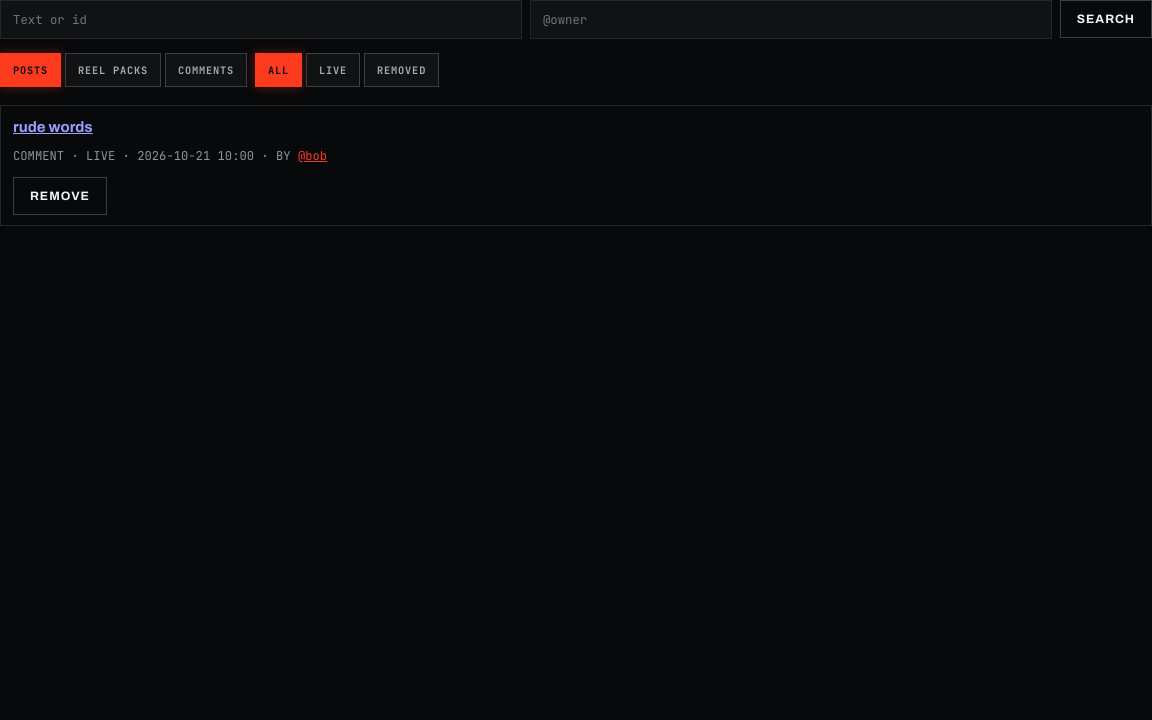
Scenario: ContentPanel › removes a comment and swaps the row in place
This screenshot has width=1152, height=720.
Check: the text "REMOVE" is shown, box [30,190,90,202]
Click the button "REMOVE": (60, 196) [13,177,107,215]
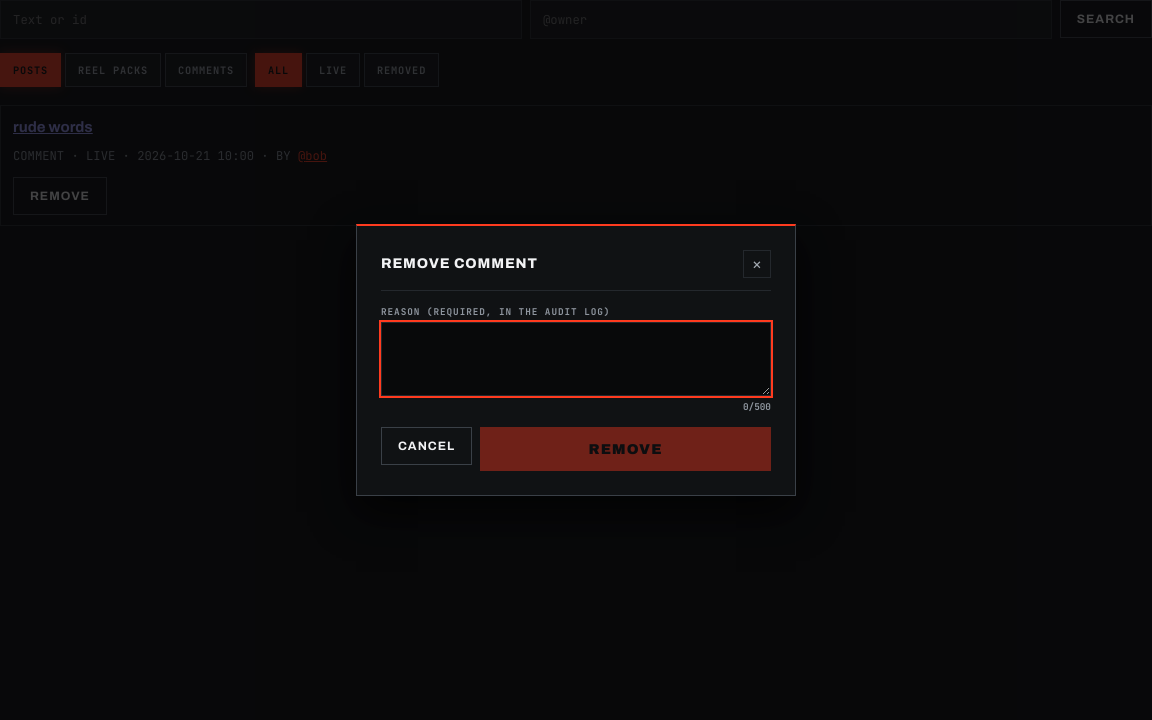
In the text box labelled "REASON": (576, 359) [381,322,771,396], type "test reason"
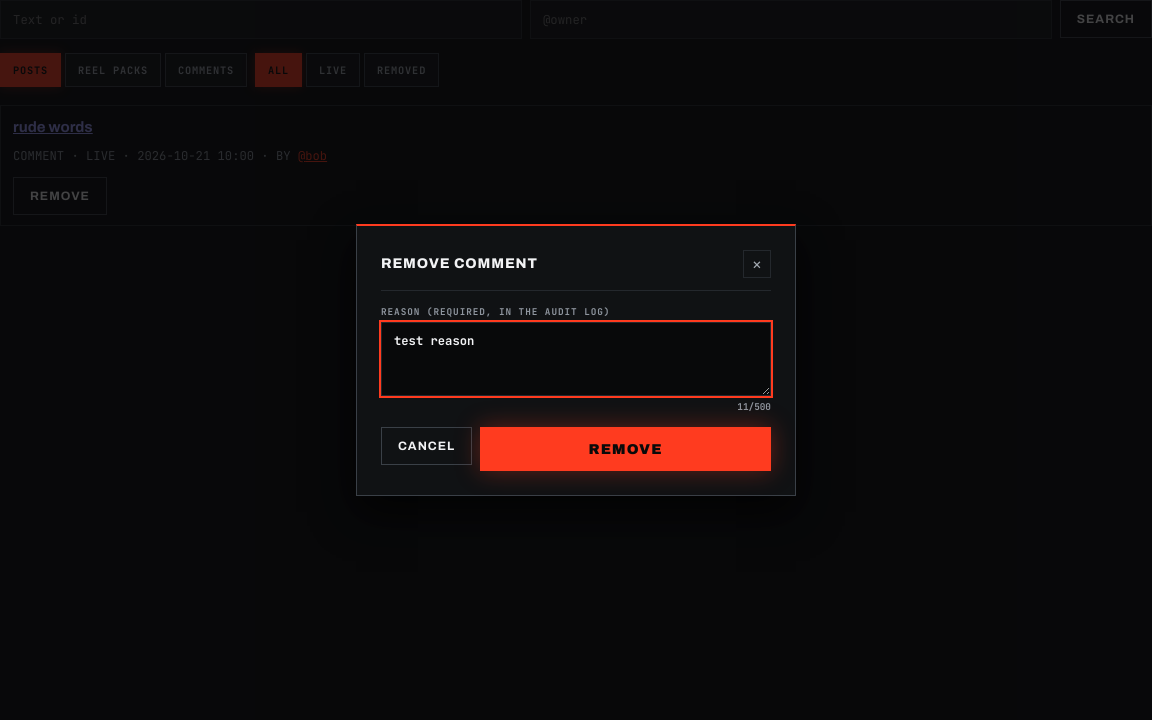
Click the button "REMOVE": (626, 449) [480,427,771,471]
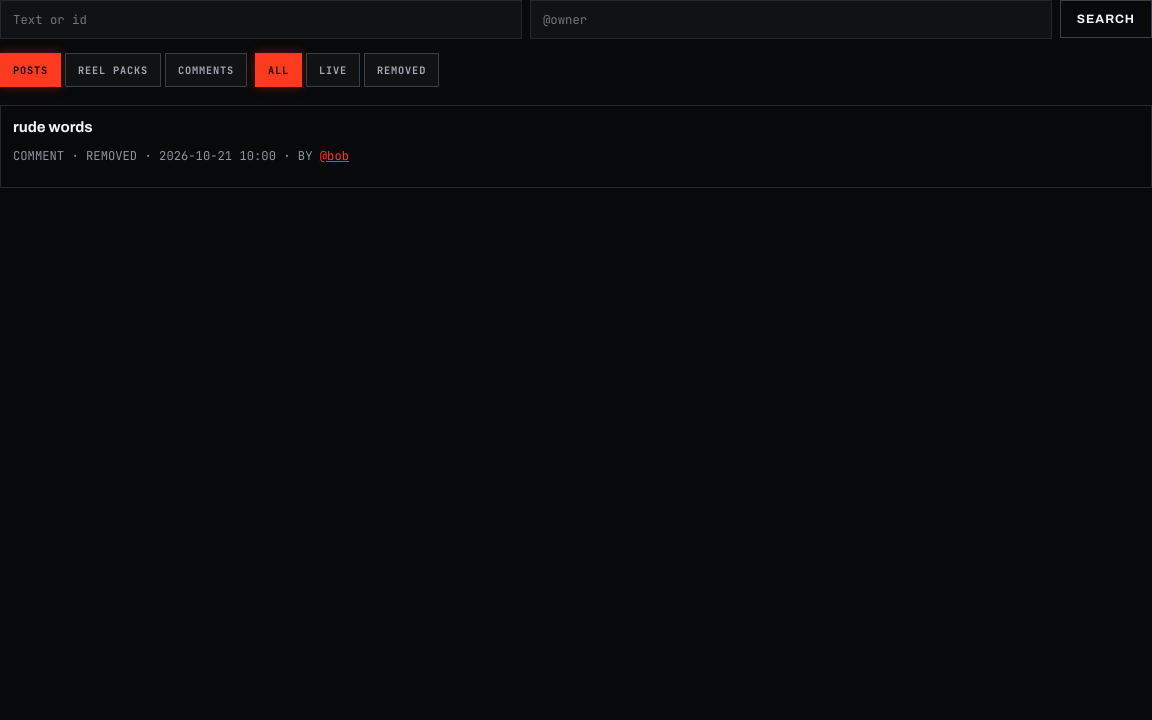
Check: the text "COMMENT · REMOVED · 2026-10-21 10:00 · BY @bob" is shown, box [13,147,349,165]
